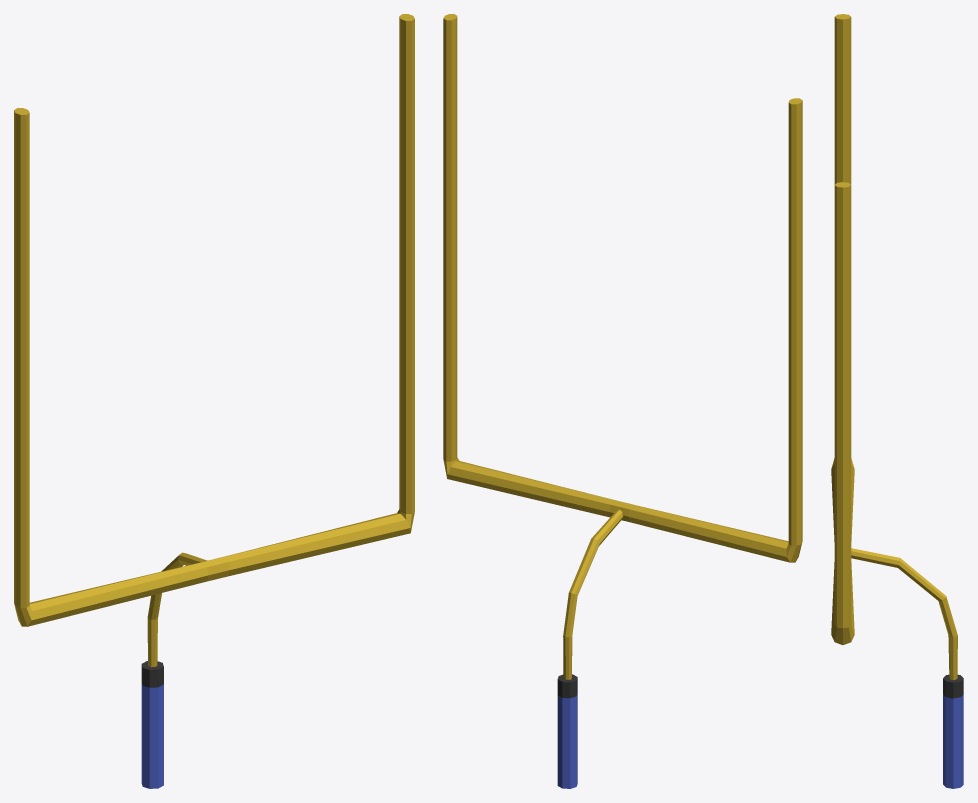
The model's file is NFL Goals.fbx.
The picture shows the model from 3 angles, left to right: view 1: azimuth 30°, elevation 25°; view 2: azimuth 150°, elevation 25°; view 3: azimuth 270°, elevation 25°; orthographic projection. The views are drawn at different scales.
Visible parts, largest first — view 1: NFL Goals; view 2: NFL Goals; view 3: NFL Goals.
Boxes of the visible parts, <box> form: NFL Goals: <box>14,14,414,788</box>; NFL Goals: <box>443,14,802,788</box>; NFL Goals: <box>831,14,963,788</box>.
Size of the model in its own units: 2500 by 4590 by 807.
